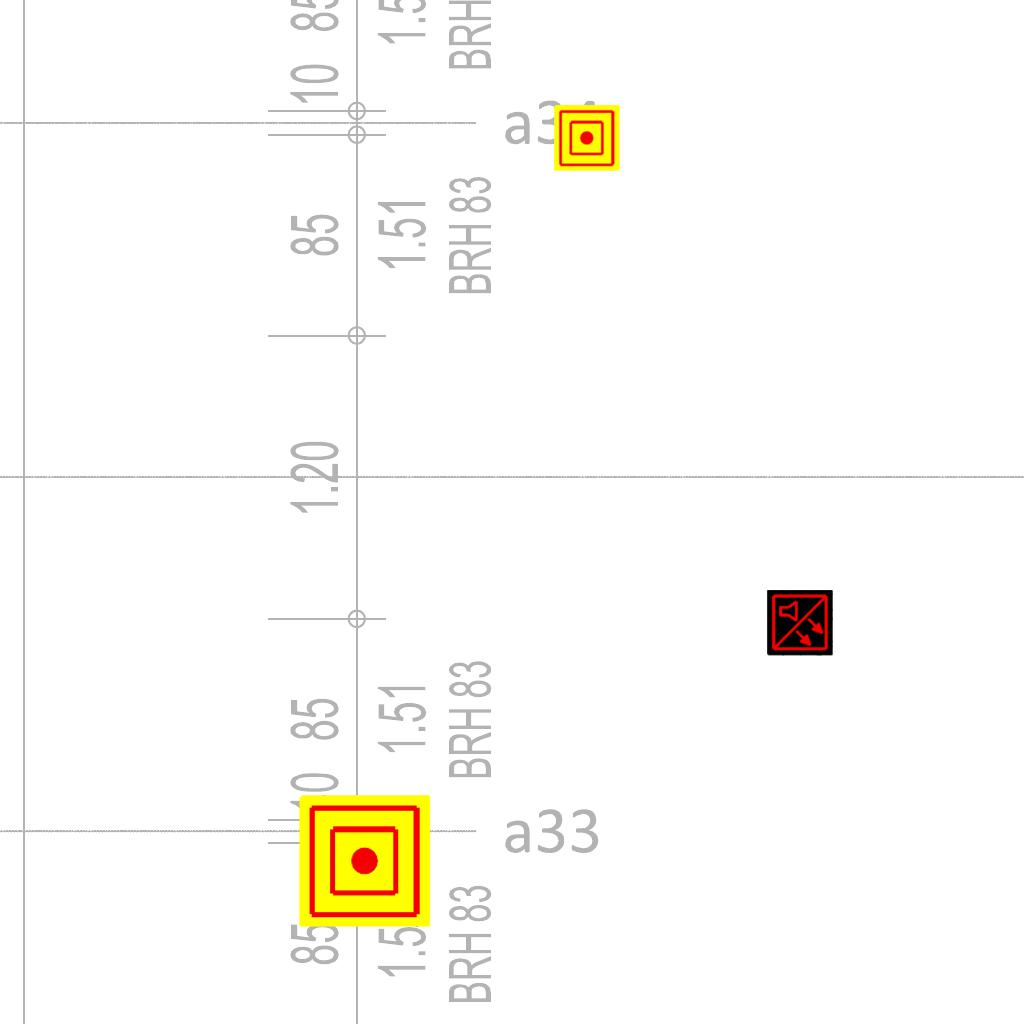NAM-Nichtautomatischer_Melder: (299, 795, 431, 927), (554, 105, 620, 171)
OKW_Multisensormelder_(Kombination_optischer_Rauch-Kahlenmonoxid_Waerme-Melder): (767, 590, 833, 656)
